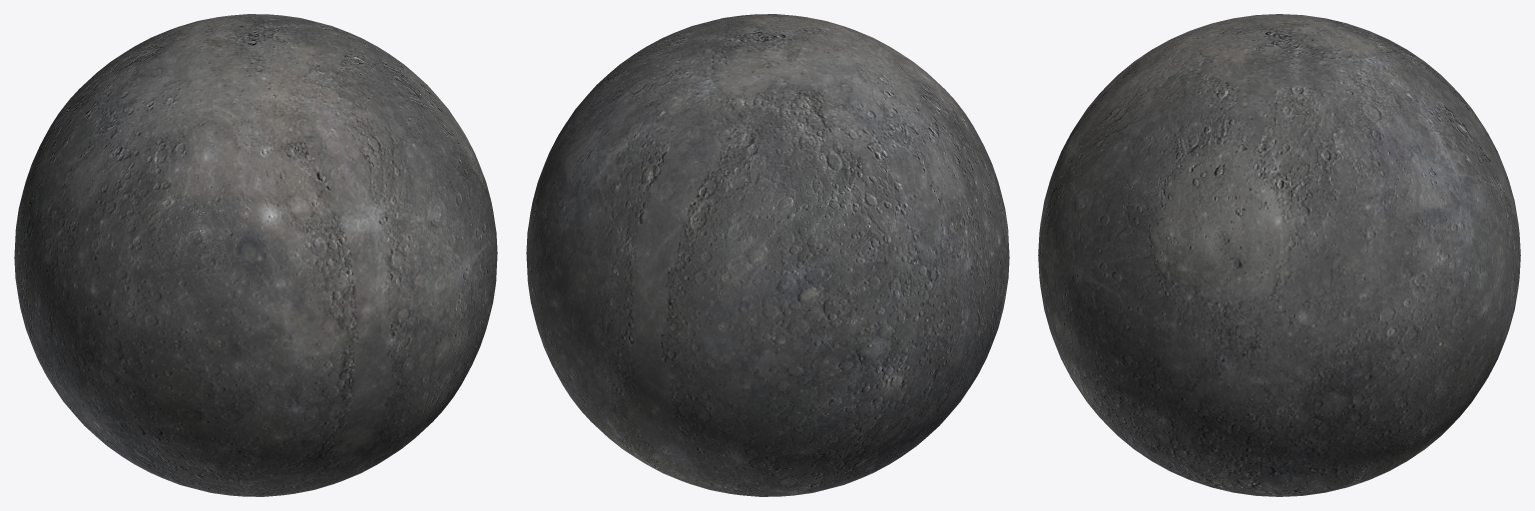
The model's file is Mercury.gltf.
The picture shows the model from 3 angles, left to right: view 1: azimuth 30°, elevation 25°; view 2: azimuth 150°, elevation 25°; view 3: azimuth 270°, elevation 25°; orthographic projection.
Visible parts, largest first — view 1: Cube.008; view 2: Cube.008; view 3: Cube.008.
Boxes of the visible parts, bbox=[...] form: Cube.008: bbox=[14, 14, 497, 496]; Cube.008: bbox=[526, 14, 1009, 496]; Cube.008: bbox=[1038, 14, 1520, 496].
Size of the model in its own units: 1000 by 1000 by 1000.
1 material, 1 textured.
